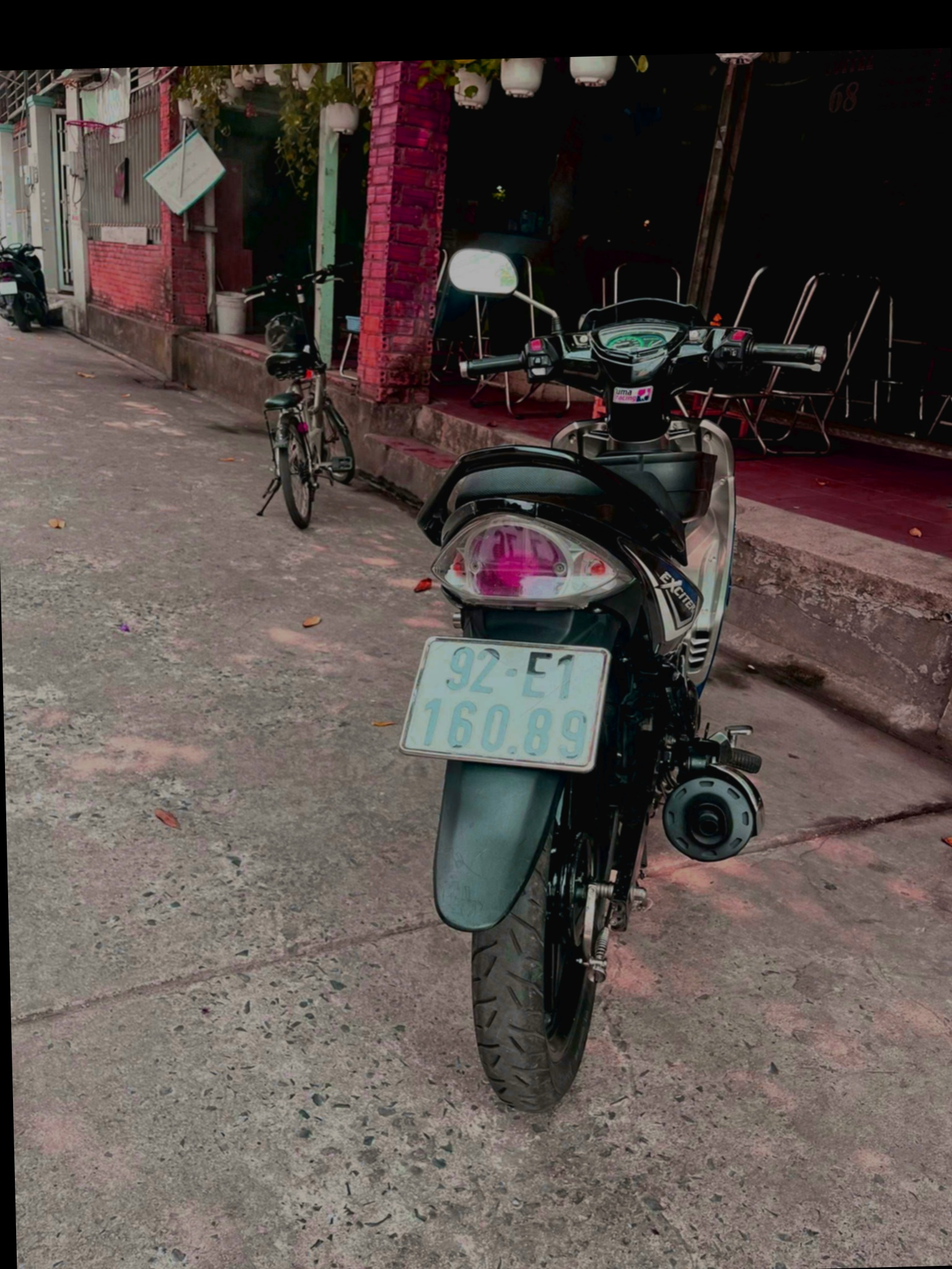Bien-so: (401, 631, 611, 777)
